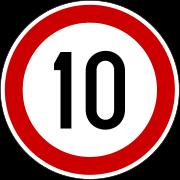Speed Limit -10-: (32, 30, 160, 149)
